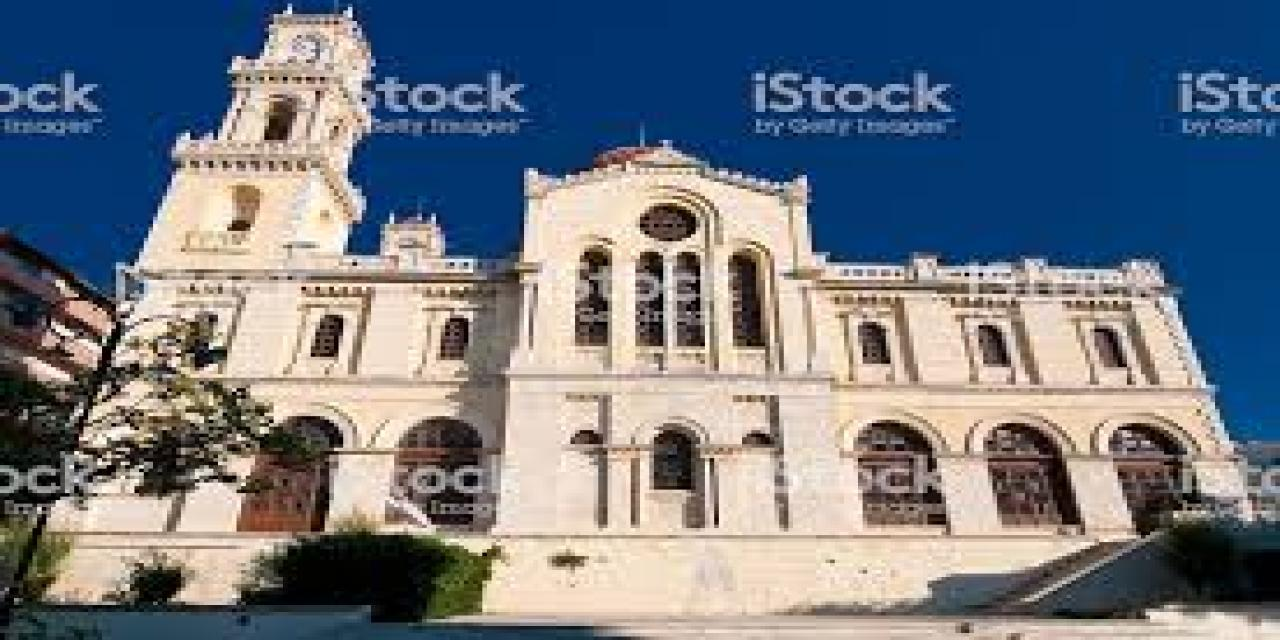Agios Minas: (22, 3, 1251, 599)
